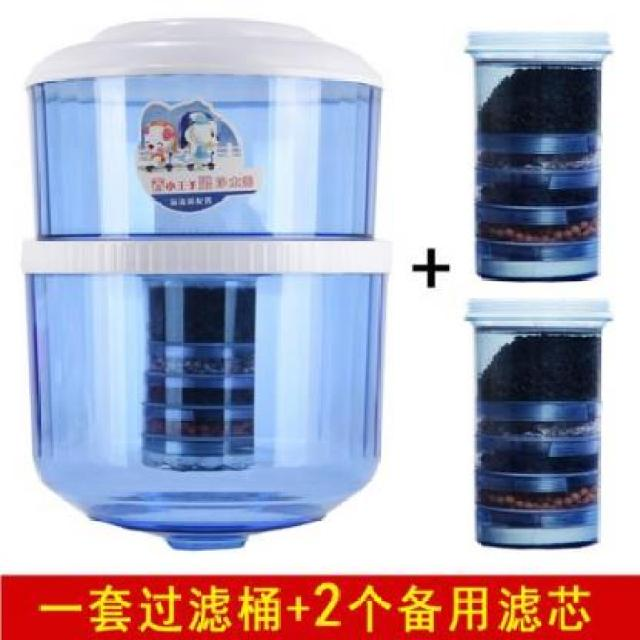coolerbottle: (12, 12, 398, 556)
